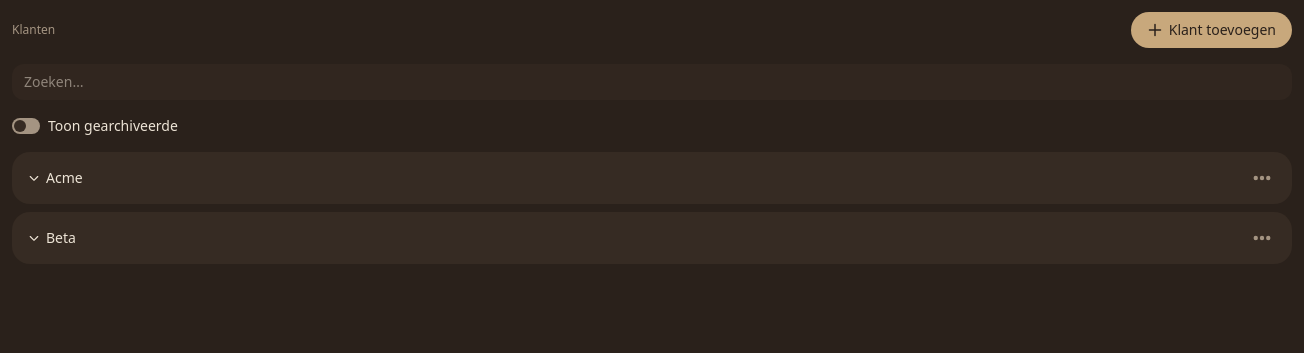
the accordion › closes the open client when a second is opened
The image size is (1304, 353).
What coordinates should you click on to do the following:
click the button "Acme"
I would click on:
 (55, 178)
Its box is [28,168,83,188].
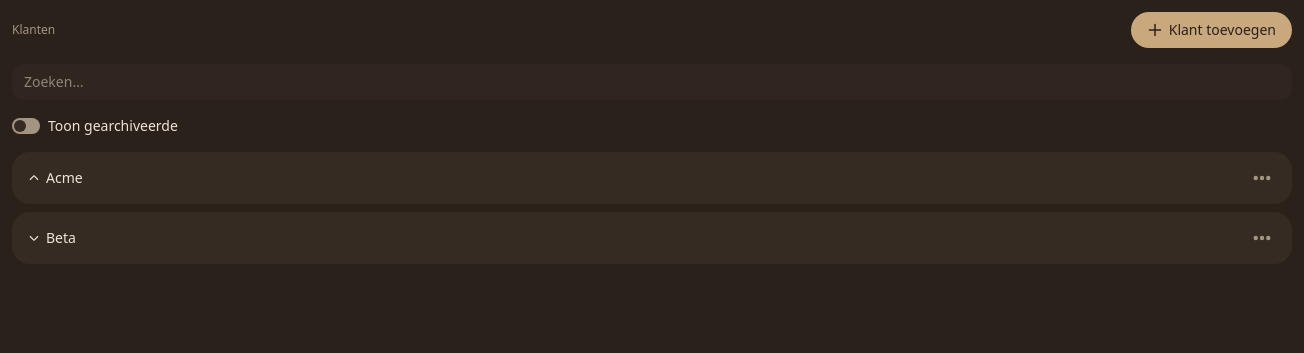
What coordinates should you click on to do the following:
click the button "Beta"
I would click on:
 (52, 238)
Its box is [28,228,76,248].
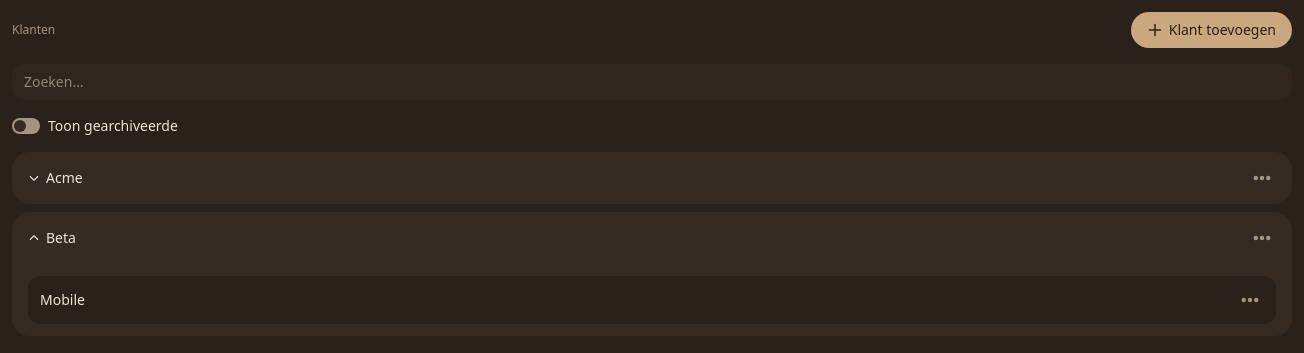
Result: the button "Acme" is collapsed at [28,168,83,188]
Result: the button "Beta" is expanded at [28,228,76,248]
